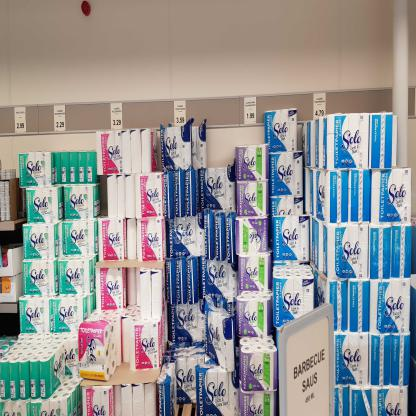prtg: (314, 94, 327, 121), (111, 104, 124, 130), (54, 106, 67, 132), (245, 98, 257, 125), (175, 101, 187, 127), (16, 108, 28, 134)
